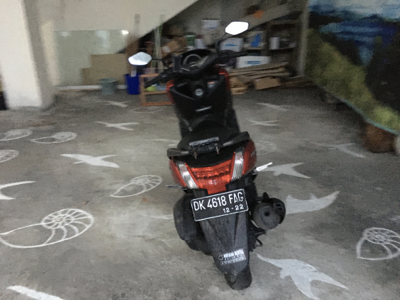moto: (139, 42, 289, 297)
